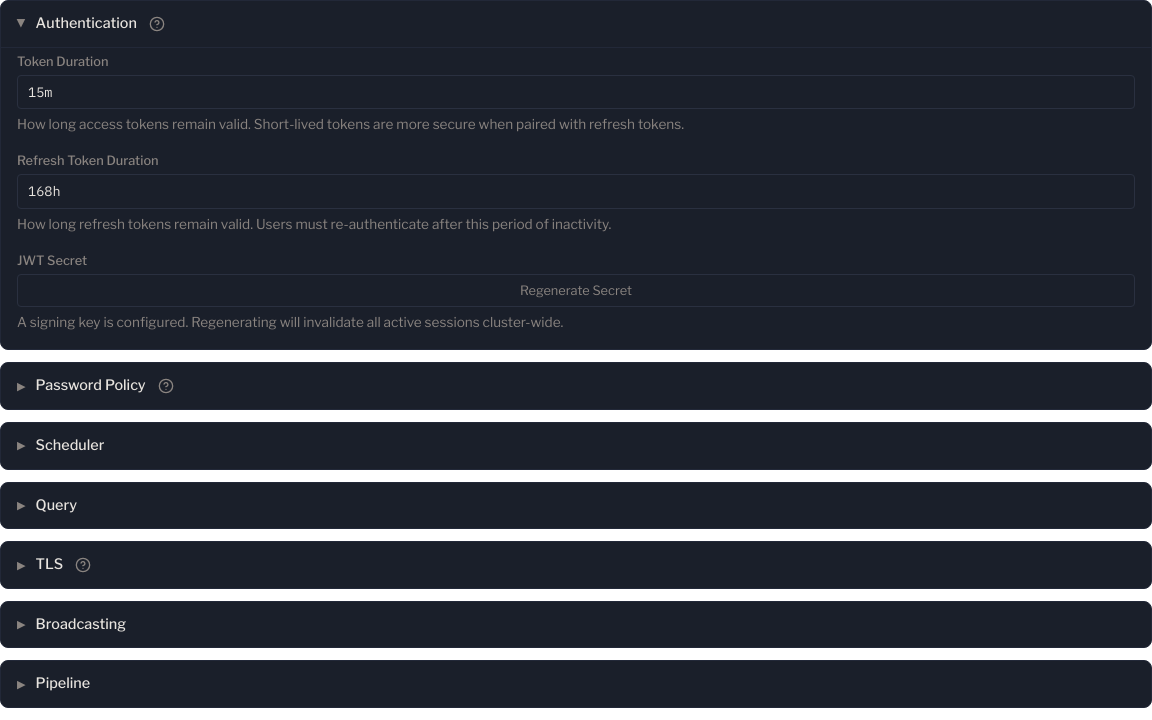
Test: ServiceSettings › scheduler section shows max concurrent jobs
Click the text "Scheduler" at (70, 446), box [36,435,104,457]
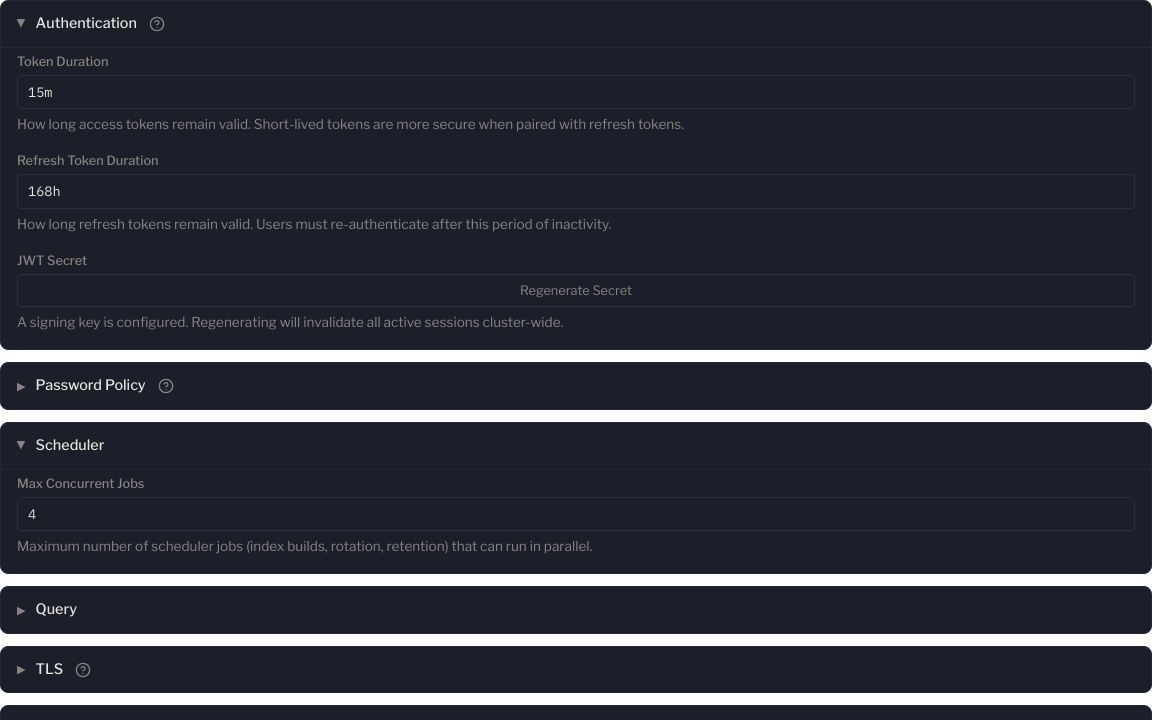
Now the text "Max Concurrent Jobs" is shown, box [17,474,144,493]
